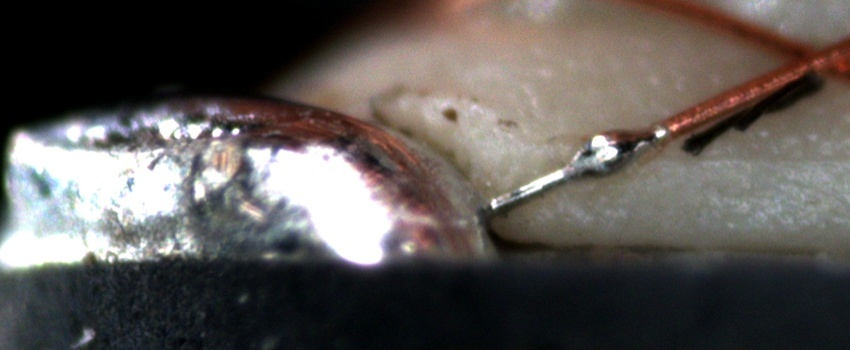CL: (764, 25, 846, 93)
DL: (682, 135, 850, 183)
TB: (568, 120, 642, 183)
TS: (487, 125, 666, 211)
TTCW: (477, 97, 717, 216)
